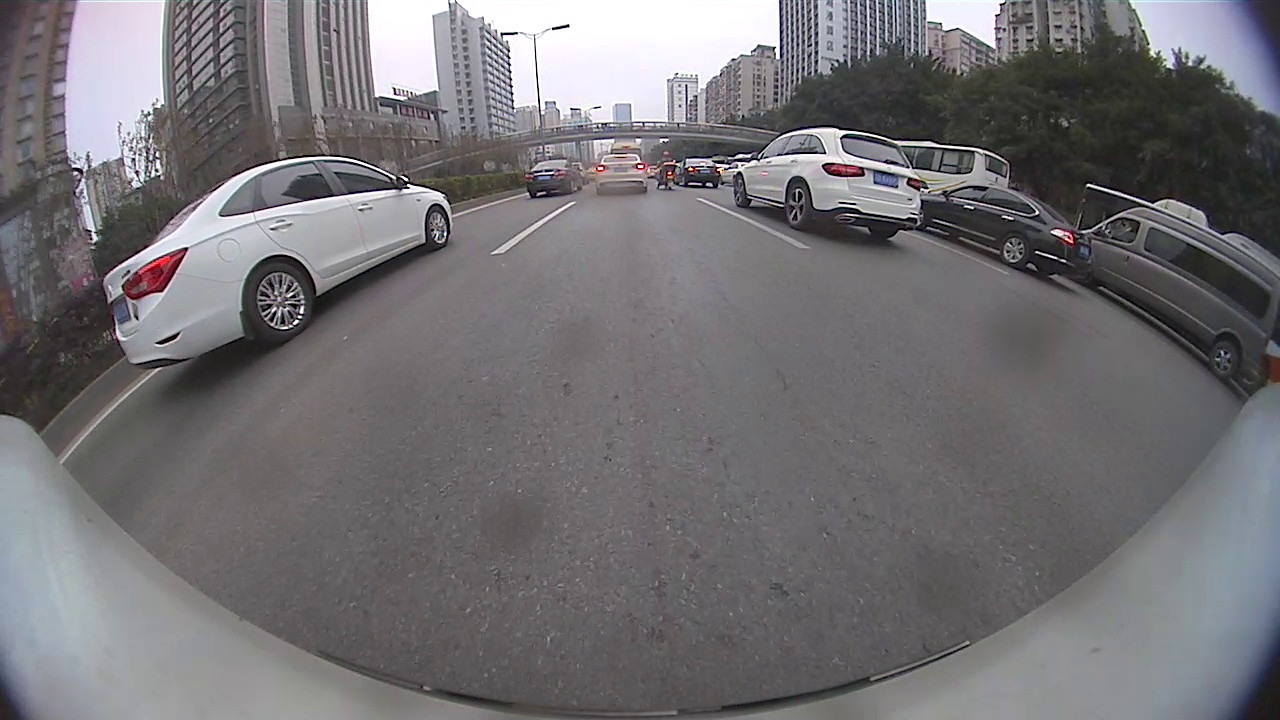bus: (896, 137, 1016, 195)
car: (98, 151, 451, 369), (1084, 195, 1277, 385), (730, 122, 926, 240), (925, 182, 1078, 279), (594, 151, 651, 195), (527, 156, 585, 197), (681, 158, 720, 188)
front: (423, 206, 453, 248), (733, 175, 750, 207)
rear: (246, 263, 315, 340), (784, 184, 814, 232), (1208, 341, 1240, 379), (999, 232, 1031, 269)
rider: (657, 148, 677, 188)
